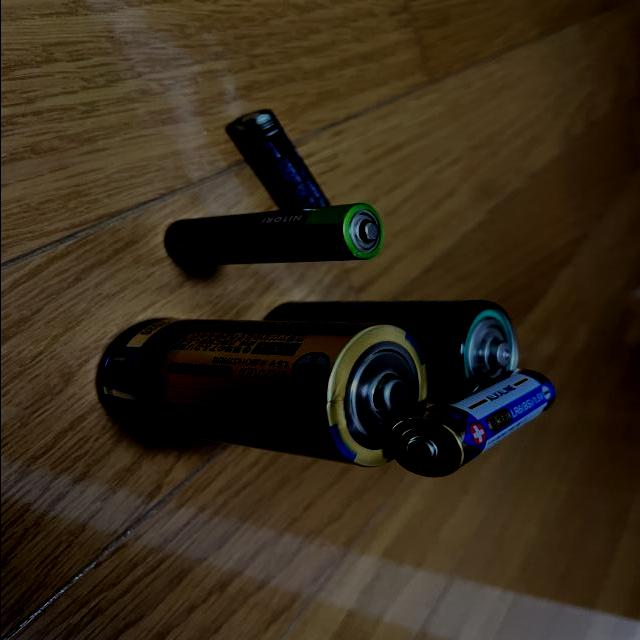AAA: (160, 195, 387, 273)
